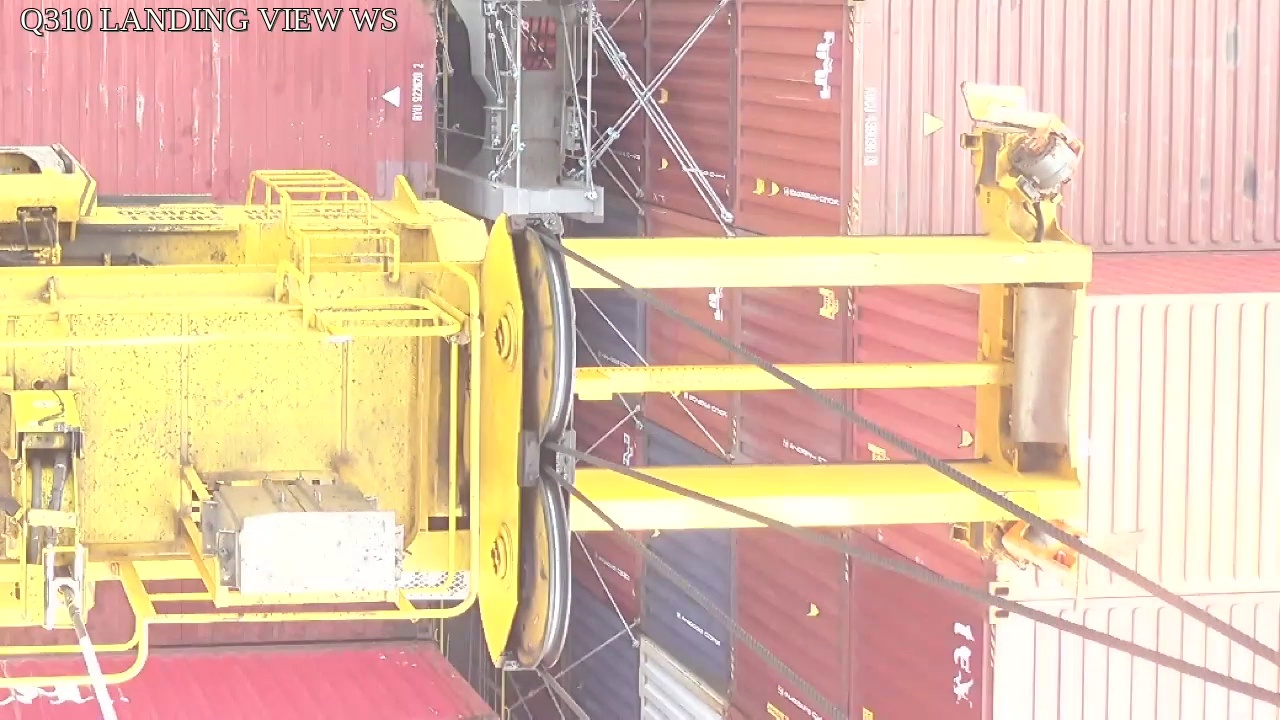right: (472, 215, 575, 672)
